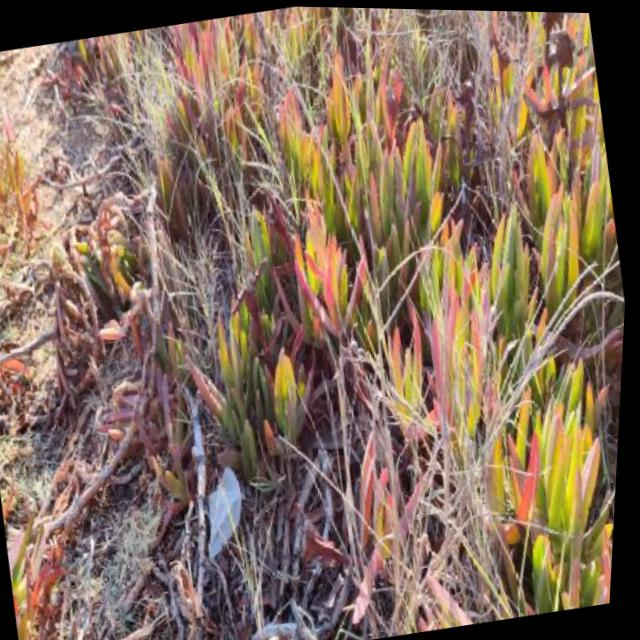plastic: (193, 462, 253, 561)
